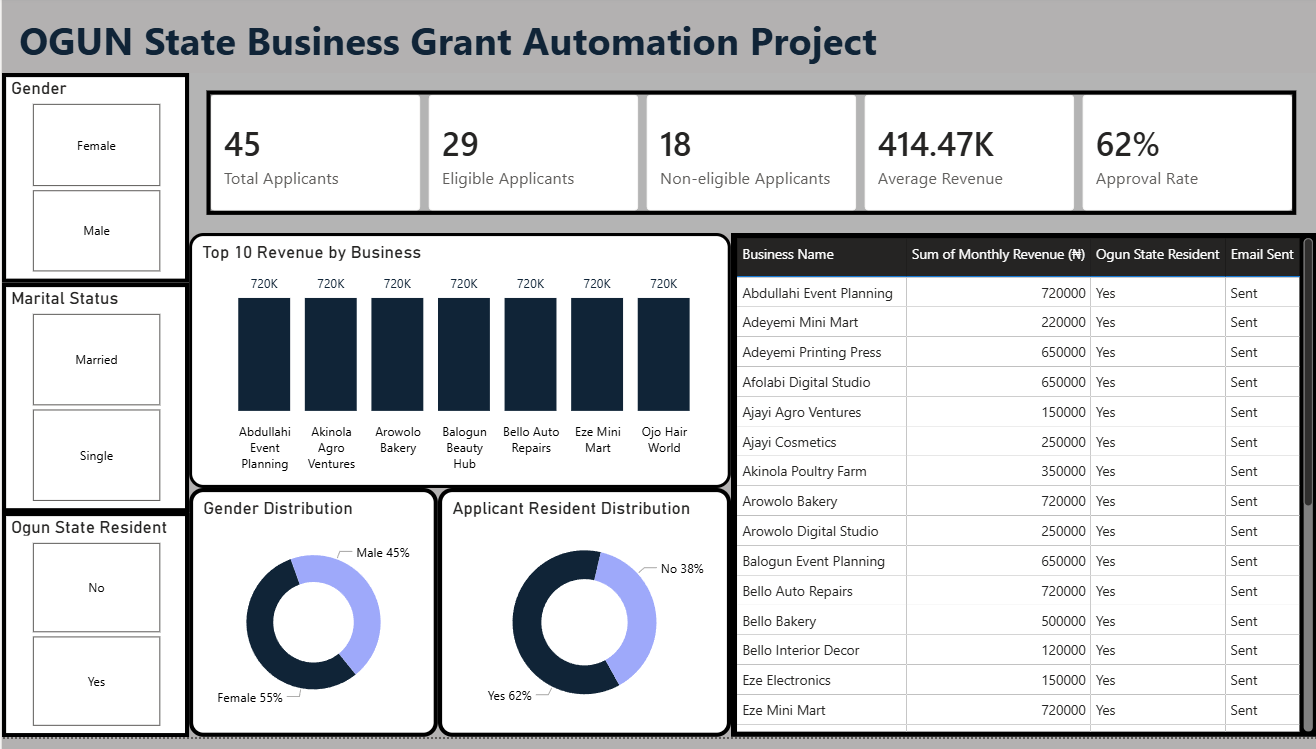

Layout of this report page (visuals, bound fields, positions):
{"tool":"powerbi","page":{"name":"Page 1","canvas":[1280,720],"ordinal":0},"visuals":[{"type":"cardVisual","fields":{"Data":["Count(pub?output=csv.Name)","Dax Table.Eligible Applicants","Dax Table.Non-eligible Applicants","Dax Table.Average Revenue","Dax Table.Approval Rate"]},"box":[181.9,73.9,1098.1,155.6],"z":0},{"type":"clusteredColumnChart","title":"Top 10 Revenue by Business","fields":{"Y":["Sum(Data.Monthly Revenue (₦))"],"Category":["Data.Business Name"]},"box":[181.9,229.5,527.2,248],"z":1000},{"type":"donutChart","title":"Gender Distribution","fields":{"Category":["Data.Gender"],"Y":["CountNonNull(Data.Applicant ID)"]},"box":[181.9,477.6,242.2,242.2],"z":2000},{"type":"donutChart","title":"Applicant Resident Distribution","fields":{"Category":["Data.Ogun State Resident"],"Y":["CountNonNull(Data.Applicant ID)"]},"box":[424.1,477.6,285,242.2],"z":3000},{"type":"tableEx","fields":{"Values":["Data.Business Name","Sum(Data.Monthly Revenue (₦))","Data.Ogun State Resident","Data.Email Sent"]},"box":[709.1,229.5,570.9,490.2],"z":4000},{"type":"slicer","title":"Gender","fields":{"Values":["Data.Gender"]},"box":[0,73.9,181.9,204.3],"z":5000},{"type":"slicer","title":"Marital Status","fields":{"Values":["Data.Marital Status"]},"box":[0,278.2,181.9,222.7],"z":6000},{"type":"slicer","title":"Ogun State Resident","fields":{"Values":["Data.Ogun State Resident"]},"box":[0,500.9,181.9,218.8],"z":7000},{"type":"textbox","box":[11.7,11.7,855,62.2],"z":7001}]}

Visuals, with their boxes in screenshot pixels (x1, y1, x2, y2), scaled from the page's 1280x720 canvas onto the 1316x749 screenshot:
cardVisual - Count(pub?output=csv.Name) x Dax Table.Eligible Applicants: left=187, top=77, right=1315, bottom=239
"Top 10 Revenue by Business" clusteredColumnChart: left=187, top=239, right=729, bottom=497
"Gender Distribution" donutChart: left=187, top=497, right=436, bottom=748
"Applicant Resident Distribution" donutChart: left=436, top=497, right=729, bottom=748
tableEx - Data.Business Name x Sum(Data.Monthly Revenue (₦)): left=729, top=239, right=1315, bottom=748
"Gender" slicer: left=0, top=77, right=187, bottom=289
"Marital Status" slicer: left=0, top=289, right=187, bottom=521
"Ogun State Resident" slicer: left=0, top=521, right=187, bottom=748
textbox: left=12, top=12, right=891, bottom=77
